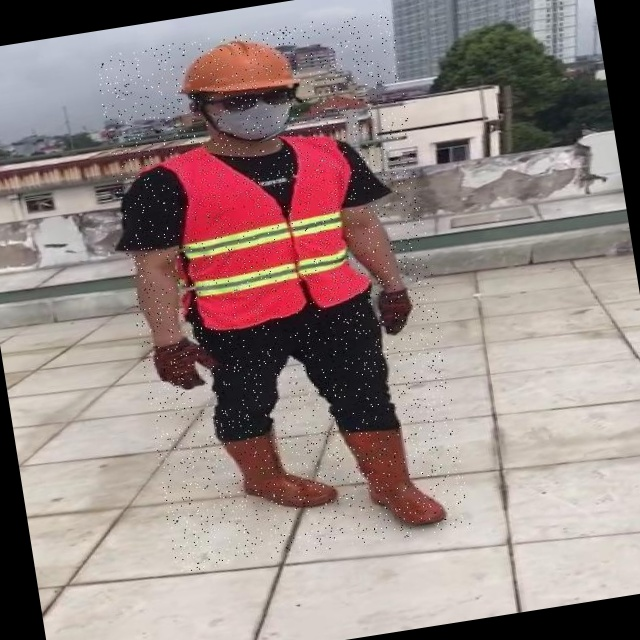boots: (222, 436, 316, 539), (330, 423, 438, 504)
gloves: (452, 305, 533, 403), (220, 275, 302, 358)
helmet: (300, 28, 426, 86)
vest: (263, 134, 452, 313)
